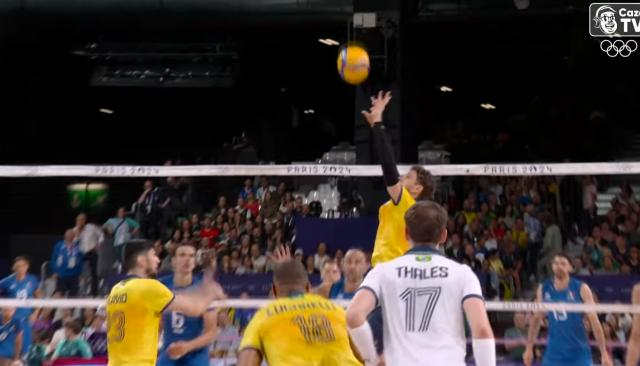Levantador: (366, 94, 424, 254)
Libero: (348, 200, 494, 366)
bola: (336, 46, 370, 86)
